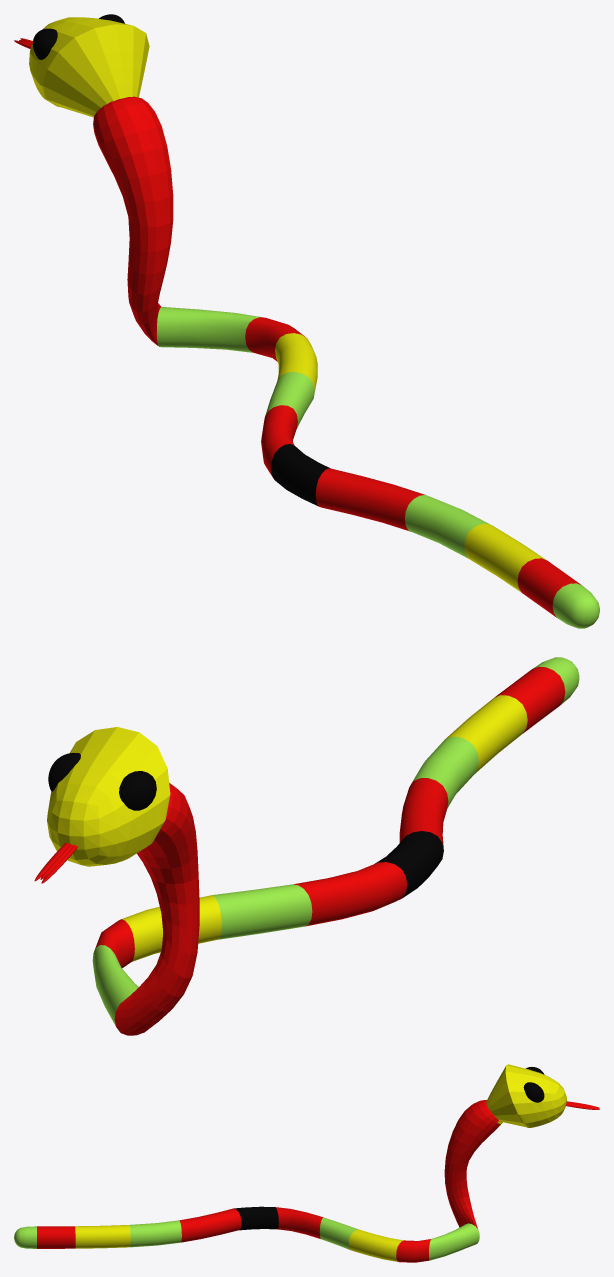
File: G18_Mujtaba_condaModel.fbx
3 renders of one model, top to bottom at view 1: azimuth 30°, elevation 25°; view 2: azimuth 150°, elevation 25°; view 3: azimuth 270°, elevation 25°, orthographic. The views are drawn at different scales.
Parts seen in each view (by area): view 1: polySurface2, polySurface3, polySurface6, polySurface5; view 2: polySurface2, polySurface3, polySurface5, polySurface6, pSphere6, pSphere7; view 3: polySurface2, polySurface3, polySurface6, polySurface5, pSphere7.
Part boxes in pixels (x1,y1,x2,y2): polySurface2: [29, 17, 173, 345]; polySurface3: [315, 468, 599, 628]; polySurface6: [156, 307, 317, 390]; polySurface5: [261, 372, 329, 505]; polySurface2: [47, 727, 199, 1035]; polySurface3: [399, 657, 579, 848]; polySurface5: [212, 831, 443, 939]; polySurface6: [92, 895, 221, 1025]; pSphere6: [119, 771, 156, 810]; pSphere7: [48, 752, 80, 791]; polySurface2: [444, 1064, 567, 1228]; polySurface3: [14, 1208, 241, 1248]; polySurface6: [348, 1223, 479, 1262]; polySurface5: [234, 1206, 358, 1249]; pSphere7: [523, 1082, 544, 1102].
Size of the model in its own units: 1.68 by 3.07 by 9.65.
